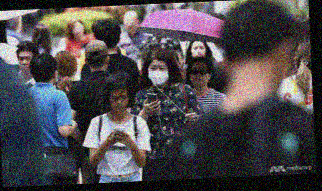with_mask: (146, 62, 169, 86)
without_mask: (188, 65, 209, 86), (108, 91, 128, 112), (16, 53, 33, 73), (190, 43, 207, 58), (71, 22, 84, 38)
